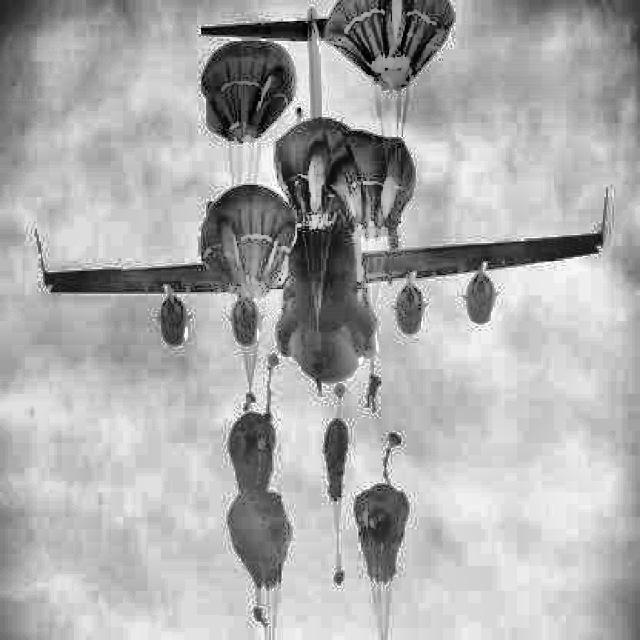C17: (34, 6, 608, 383)
